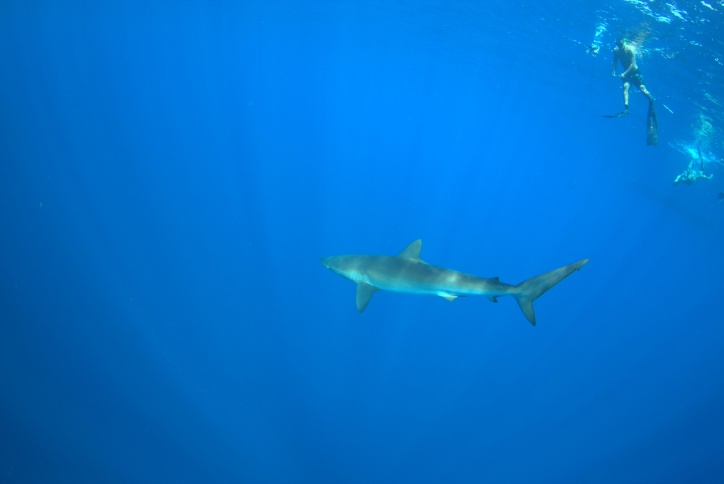Sedoso: (288, 223, 588, 343)
